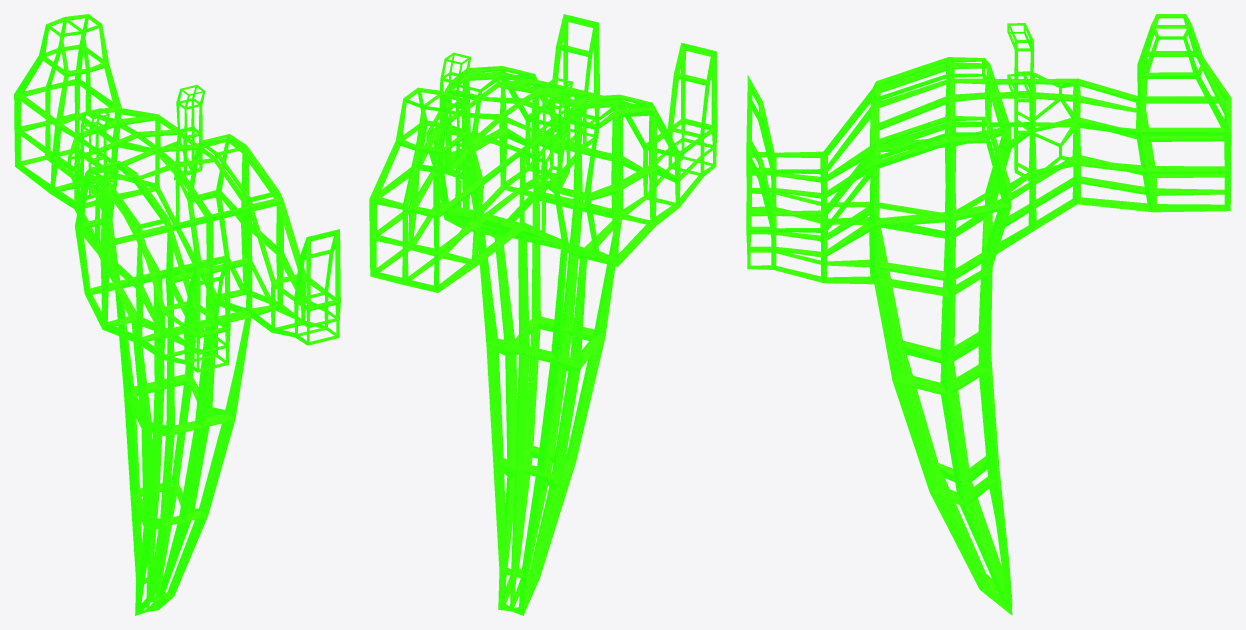
Rendered from CYBER DINO.glb.
3 renders of one model, left to right at view 1: azimuth 30°, elevation 25°; view 2: azimuth 150°, elevation 25°; view 3: azimuth 270°, elevation 25°, orthographic. The views are drawn at different scales.
Parts seen in each view (by area): view 1: CYBER DINO; view 2: CYBER DINO; view 3: CYBER DINO.
Part boxes in pixels (x1=…): CYBER DINO: x1=14, y1=14, x2=340, y2=615; CYBER DINO: x1=369, y1=14, x2=717, y2=615; CYBER DINO: x1=746, y1=14, x2=1231, y2=615.
Size of the model in its own units: 0.2682 by 0.9194 by 0.6918.
